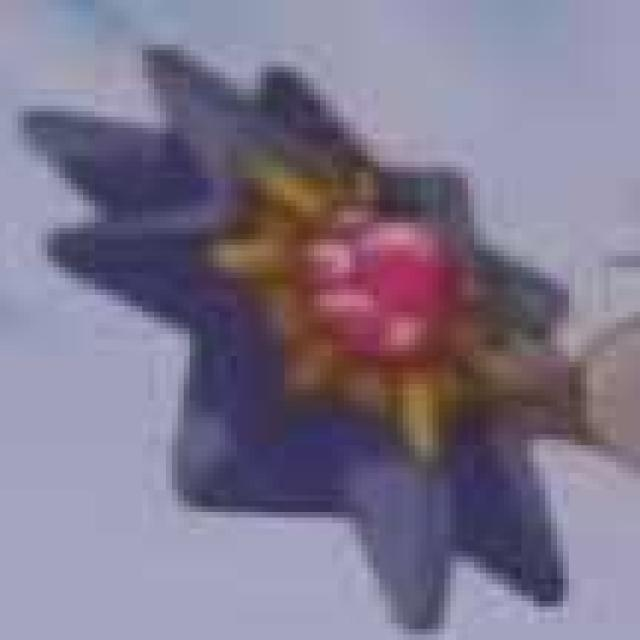Starmie: (134, 79, 548, 548)
